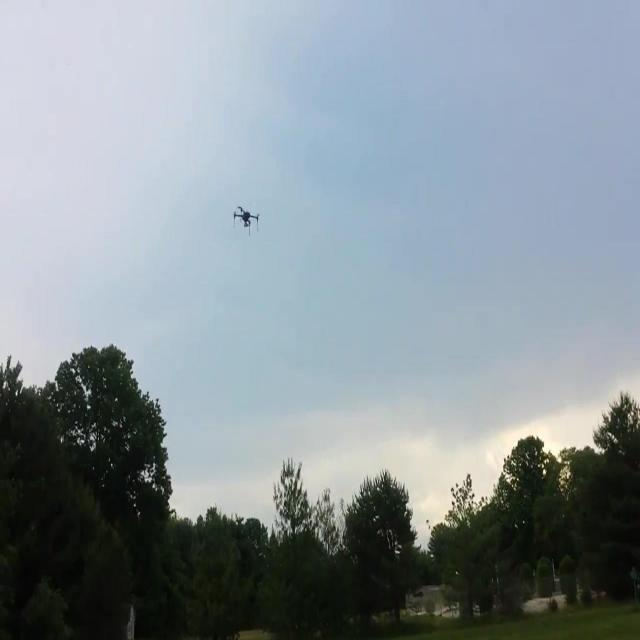UAV: (233, 206, 260, 236)
